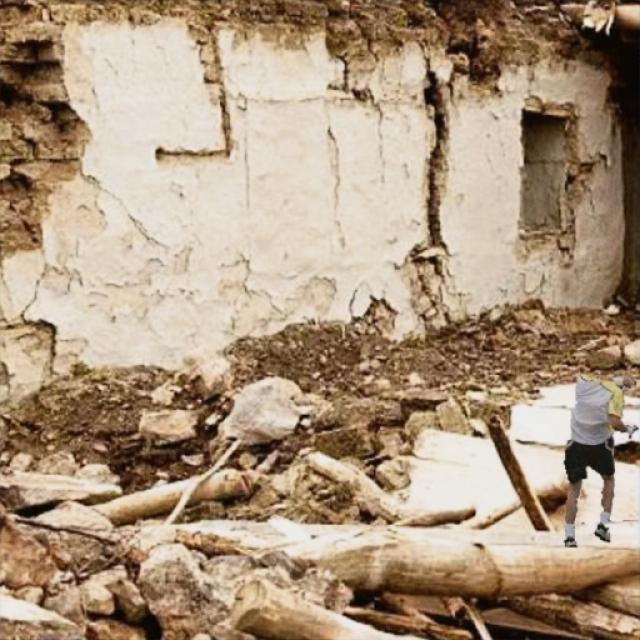Person in Rubble: (564, 374, 638, 546)
